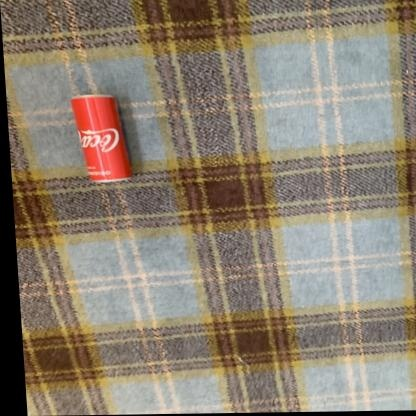trash: (71, 95, 130, 181)
